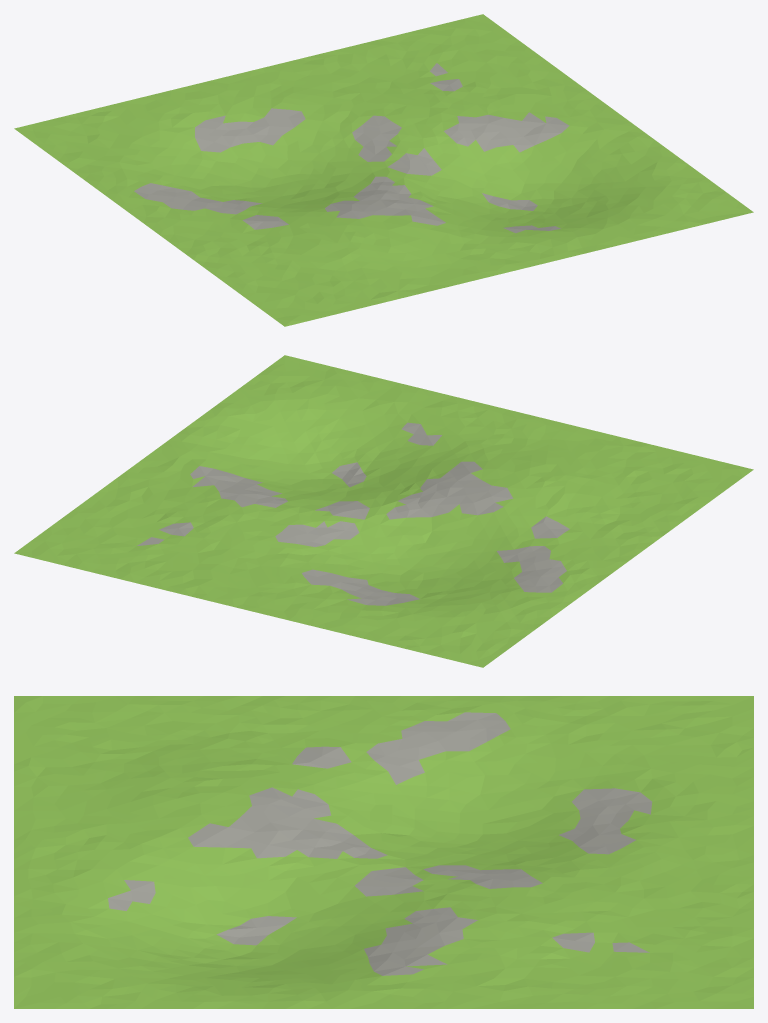
Rendered from terrain_l_c_02.glb.
The picture shows the model from 3 angles, top to bottom: view 1: azimuth 30°, elevation 25°; view 2: azimuth 150°, elevation 25°; view 3: azimuth 270°, elevation 25°; orthographic projection. The views are drawn at different scales.
Parts seen in each view (by area): view 1: CPT_Terrain_L_c_02; view 2: CPT_Terrain_L_c_02; view 3: CPT_Terrain_L_c_02.
Boxes of the visible parts, x1,y1,x2,y2 form: CPT_Terrain_L_c_02: [14, 14, 753, 326]; CPT_Terrain_L_c_02: [14, 355, 753, 667]; CPT_Terrain_L_c_02: [14, 696, 753, 1008].
Size of the model in its own units: 100 by 5.22 by 100.
Materials: 1 (1 with a texture image).
